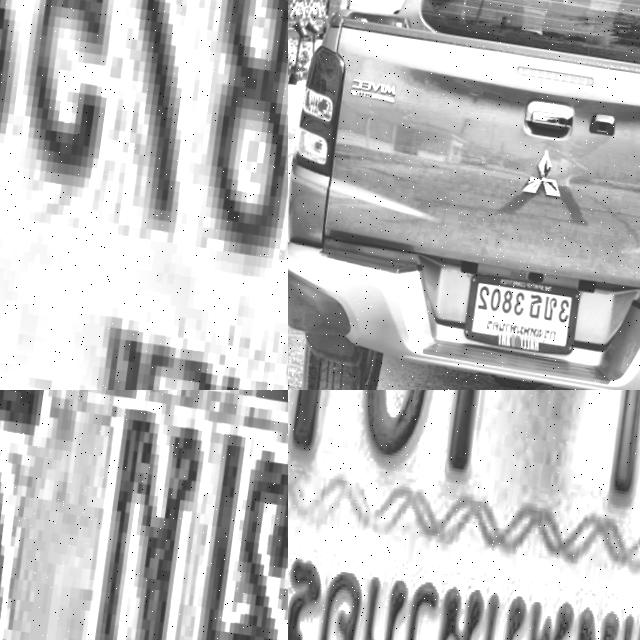license-plate: (0, 0, 288, 390), (288, 390, 640, 640), (0, 390, 288, 640), (458, 272, 578, 356)
